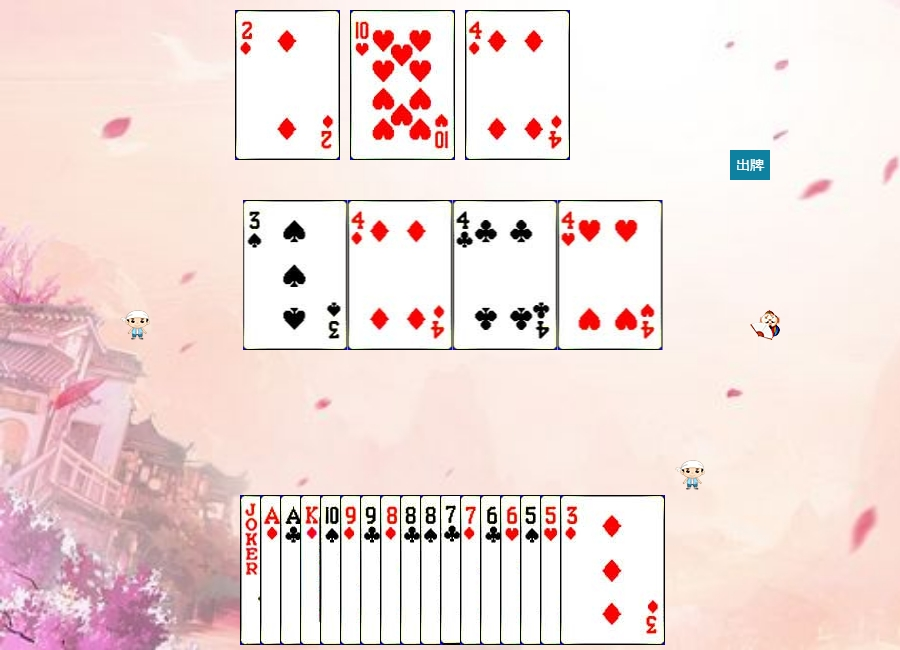10~3: (350, 10, 455, 160)
10~4: (320, 495, 425, 645)
13~1: (300, 495, 405, 645)
14~1: (260, 495, 365, 645)
14~2: (280, 495, 385, 645)
15~1: (235, 10, 340, 160)
18~4: (240, 495, 345, 645)
3~1: (560, 495, 665, 645)
3~4: (243, 200, 348, 350)
4~1: (465, 10, 570, 160), (348, 200, 453, 350)
4~2: (453, 200, 558, 350)
4~3: (558, 200, 663, 350)
5~3: (540, 495, 645, 645)
5~4: (520, 495, 625, 645)
6~2: (480, 495, 585, 645)
6~3: (500, 495, 605, 645)
7~1: (460, 495, 565, 645)
7~2: (440, 495, 545, 645)
8~1: (380, 495, 485, 645)
8~2: (400, 495, 505, 645)
8~4: (420, 495, 525, 645)
9~1: (340, 495, 445, 645)
9~2: (360, 495, 465, 645)
